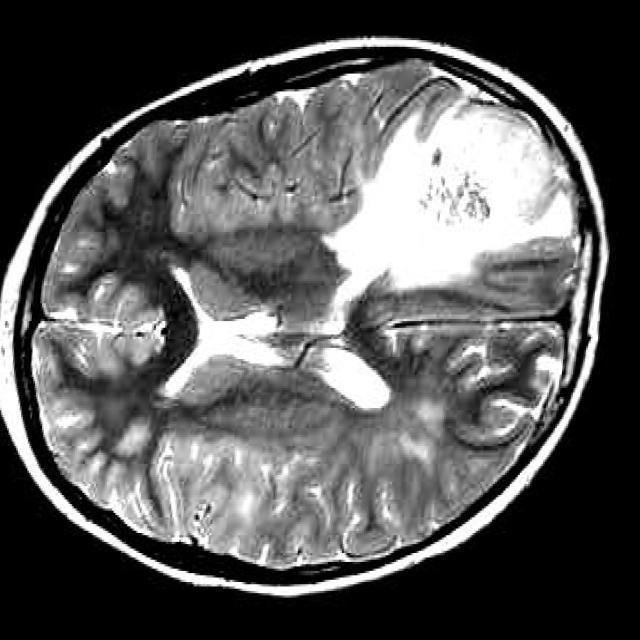Tumor: (326, 100, 578, 288)
